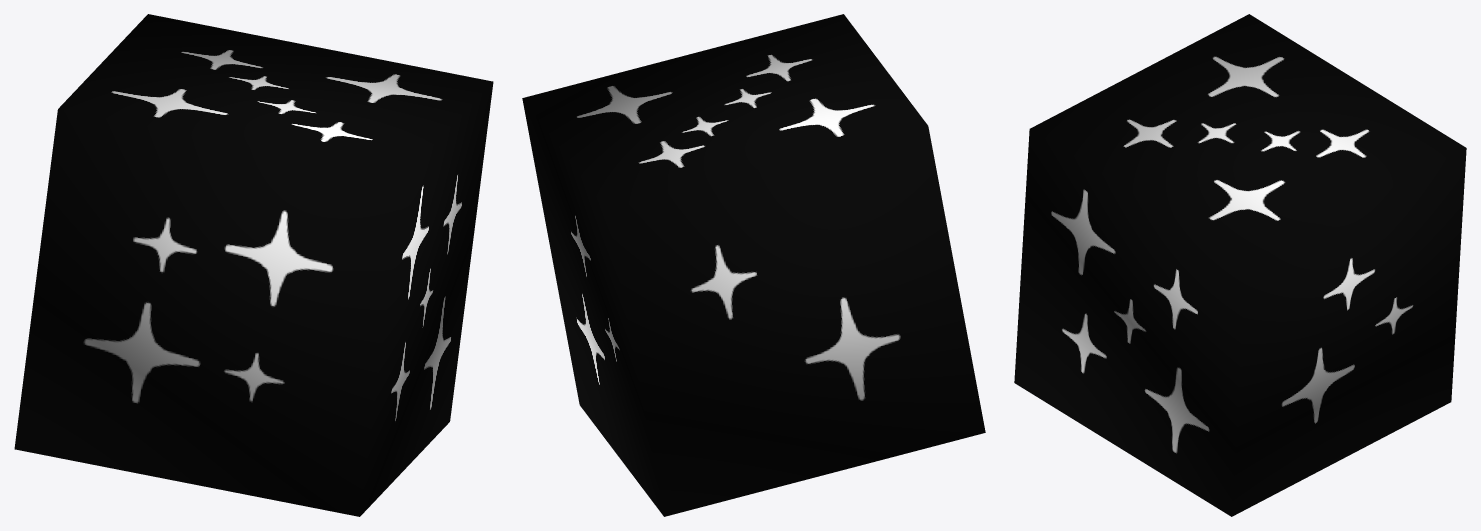
The model's file is dice.glb.
3 views of the same model, side by side, from view 1: azimuth 30°, elevation 25°; view 2: azimuth 150°, elevation 25°; view 3: azimuth 270°, elevation 25° (orthographic). The views are drawn at different scales.
Parts seen in each view (by area): view 1: DICE_BLK; view 2: DICE_BLK; view 3: DICE_BLK.
Part boxes in pixels (x1,y1,x2,y2): DICE_BLK: (14, 14, 493, 516); DICE_BLK: (522, 14, 985, 516); DICE_BLK: (1014, 14, 1466, 516).
Size of the model in its own units: 0.1894 by 0.1482 by 0.1773.
1 material, 1 textured.
